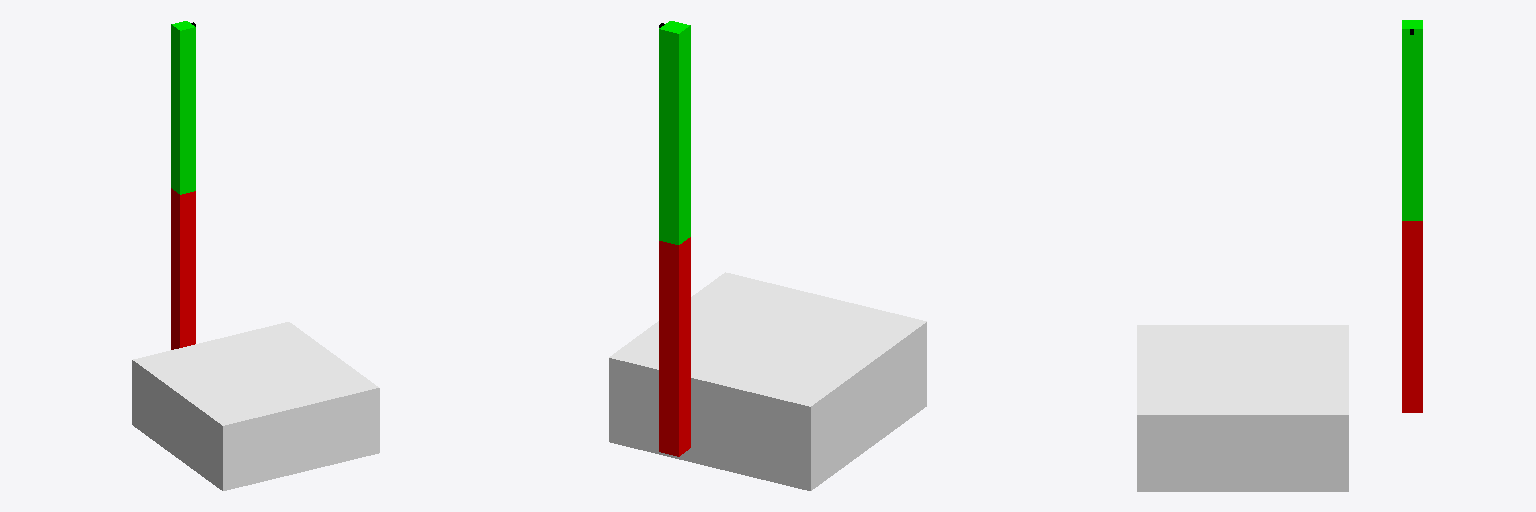
robot.urdf — rupert:
<robot name="rupert">

  <!-- Base (robustecendo a base e fixando o movimento) -->
  <link name="base_box">
    <visual>
      <origin xyz="0 0 0.6" rpy="0 0 0"/>
      <geometry>
        <box size="0.5 0.5 0.2"/>
      </geometry>
      <material name="white">
        <color rgba="1 1 1 1"/>
      </material>
    </visual>

    <collision>
      <origin xyz="0 0 0.6" rpy="0 0 0"/>
      <geometry>
        <box size="0.5 0.5 0.2"/>
      </geometry>
    </collision>

    <inertial>
      <origin xyz="0 0 0" rpy="0 0 0"/>
      <mass value="1"/>
      <inertia ixx="0.000034533333" ixy="0" ixz="0" iyx="0" iyy="0.000034533333" iyz="0" izx="0" izy="0" izz="0.0000648"/>
    </inertial>
  </link>

  <!-- Joint 1: Rotação no eixo Y -->
  <link name="link1">
    <visual>
      <origin xyz="0 0 0.25" rpy="0 0 0"/>
      <geometry>
        <box size="0.05 0.05 0.5"/>
      </geometry>
      <material name="red">
        <color rgba="1 0 0 1"/>
      </material>
    </visual>

    <collision>
      <origin xyz="0 0 0.25" rpy="0 0 0"/>
      <geometry>
        <box size="0.05 0.05 0.5"/>
      </geometry>
    </collision>

    <inertial>
      <origin xyz="0 0 0" rpy="0 0 0"/>
      <mass value="0.1"/>
      <inertia ixx="0.000034533333" ixy="0" ixz="0" iyx="0" iyy="0.000034533333" iyz="0" izx="0" izy="0" izz="0.0000648"/>
    </inertial>
  </link>

  <!-- Joint 1: Revolute, Movimento de rotação no eixo Y -->
  <joint name="joint1" type="revolute">
    <parent link="base_box"/>
    <child link="link1"/>
    <origin xyz="0 0.4 0.6" rpy="0 0 0"/>
    <axis xyz="0 1 0"/>
    <limit effort="10" velocity="2" lower="0" upper="3.14"/>
  </joint>

  <!-- Link 2: Movimento de subida e descida (Plano X-Y) -->
  <link name="link2">
    <visual>
      <origin xyz="0 0 0.25" rpy="0 0 0"/>
      <geometry>
        <box size="0.05 0.05 0.5"/>
      </geometry>
      <material name="green">
        <color rgba="0 1 0 1"/>
      </material>
    </visual>

    <collision>
      <origin xyz="0 0 0.25" rpy="0 0 0"/>
      <geometry>
        <box size="0.05 0.05 0.5"/>
      </geometry>
    </collision>

    <inertial>
      <origin xyz="0 0 0" rpy="0 0 0"/>
      <mass value="0.1"/>
      <inertia ixx="0.000034533333" ixy="0" ixz="0" iyx="0" iyy="0.000034533333" iyz="0" izx="0" izy="0" izz="0.0000648"/>
    </inertial>
  </link>

  <!-- Joint 2: Prismatic, Movimento no plano X-Y -->
  <joint name="joint2" type="prismatic">
    <parent link="link1"/>
    <child link="link2"/>
    <origin xyz="0 0 0.5" rpy="0 0 0"/>
    <axis xyz="1 0 0"/>
    <limit effort="10" lower="0" upper="1"/>
  </joint>

  <!-- Camara e Sensor -->
  <link name="camera_link">
    <visual>
      <origin xyz="0.0 0.0 0.0" rpy="0 0 0"/>
      <geometry>
        <box size="0.01 0.01 0.01"/>
      </geometry>
      <material name="black">
        <color rgba="0 0 0 1"/>
      </material>
    </visual>

    <collision>
      <origin xyz="0.0 0.0 0.0" rpy="0 0 0"/>
      <geometry>
        <box size="0.01 0.01 0.01"/>
      </geometry>
    </collision>

    <inertial>
      <origin xyz="0 0 0" rpy="0 0 0"/>
      <mass value="0.0001"/>
      <inertia ixx="0.000034533333" ixy="0" ixz="0" iyx="0" iyy="0.000034533333" iyz="0" izx="0" izy="0" izz="0.0000648"/>
    </inertial>
  </link>

  <joint name="camera_joint" type="fixed">
    <parent link="link2"/>
    <child link="camera_link"/>
    <origin xyz="0.03 0.0 0.495" rpy="0 0 0"/>
    <axis xyz="0 0 1"/>
  </joint>

</robot>

--- Facts derived from the render (not from the file) ---
The picture shows the robot from 3 angles, left to right: view 1: azimuth 30°, elevation 25°; view 2: azimuth 150°, elevation 25°; view 3: azimuth 270°, elevation 25°; orthographic projection.
Model rupert with 4 links and 3 joints (1 revolute, 1 prismatic, 1 fixed), rooted at base_box, posed all joints at 0.
Visible links, largest first — view 1: base_box, link2, link1; view 2: base_box, link2, link1; view 3: base_box, link2, link1.
Link boxes in pixels (x1,y1,x2,y2): base_box: (132, 322, 379, 490); link2: (171, 21, 195, 194); link1: (171, 188, 195, 349); base_box: (609, 272, 926, 490); link2: (659, 21, 690, 244); link1: (659, 237, 690, 456); base_box: (1137, 325, 1348, 491); link2: (1402, 20, 1422, 220); link1: (1402, 221, 1422, 412).
Bounding box of the posed robot: 0.5 × 0.675 × 1.1 m (x, y, z).
Geometry: primitives only (box / cylinder / sphere), no mesh files.
